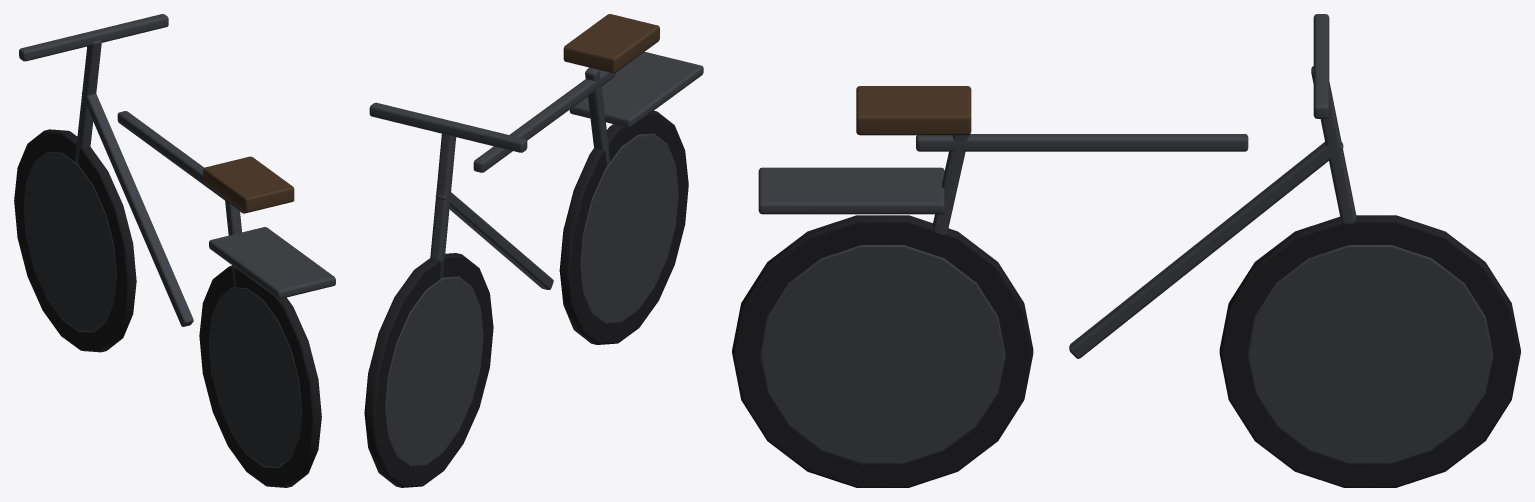
The model's file is fiets.glb.
3 views of the same model, side by side, from view 1: azimuth 30°, elevation 25°; view 2: azimuth 150°, elevation 25°; view 3: azimuth 270°, elevation 25° (orthographic). The views are drawn at different scales.
Visible parts, largest first — view 1: Fiets; view 2: Fiets; view 3: Fiets.
Boxes of the visible parts, left/top/right/bottom form: Fiets: left=14, top=14, right=335, bottom=487; Fiets: left=364, top=14, right=703, bottom=487; Fiets: left=732, top=14, right=1520, bottom=487.
Bounding box in the file's own units: 0.5 × 1.06 × 1.78.
